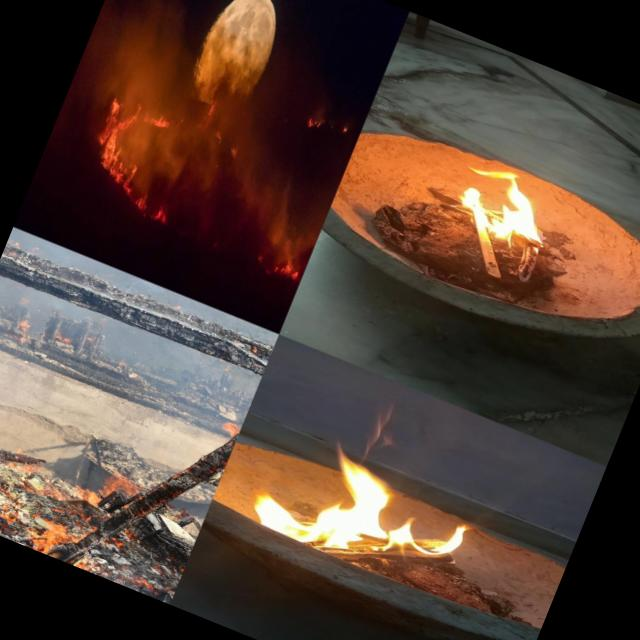fire: (246, 413, 498, 605), (432, 146, 586, 270), (60, 442, 156, 526), (25, 500, 97, 568), (86, 89, 142, 174), (200, 398, 248, 446), (127, 192, 176, 232), (138, 102, 180, 142), (108, 157, 146, 197), (276, 252, 304, 281), (252, 242, 278, 273), (206, 120, 227, 154), (225, 132, 248, 162), (200, 92, 220, 124), (304, 108, 326, 134), (332, 120, 351, 141), (208, 233, 224, 252)
